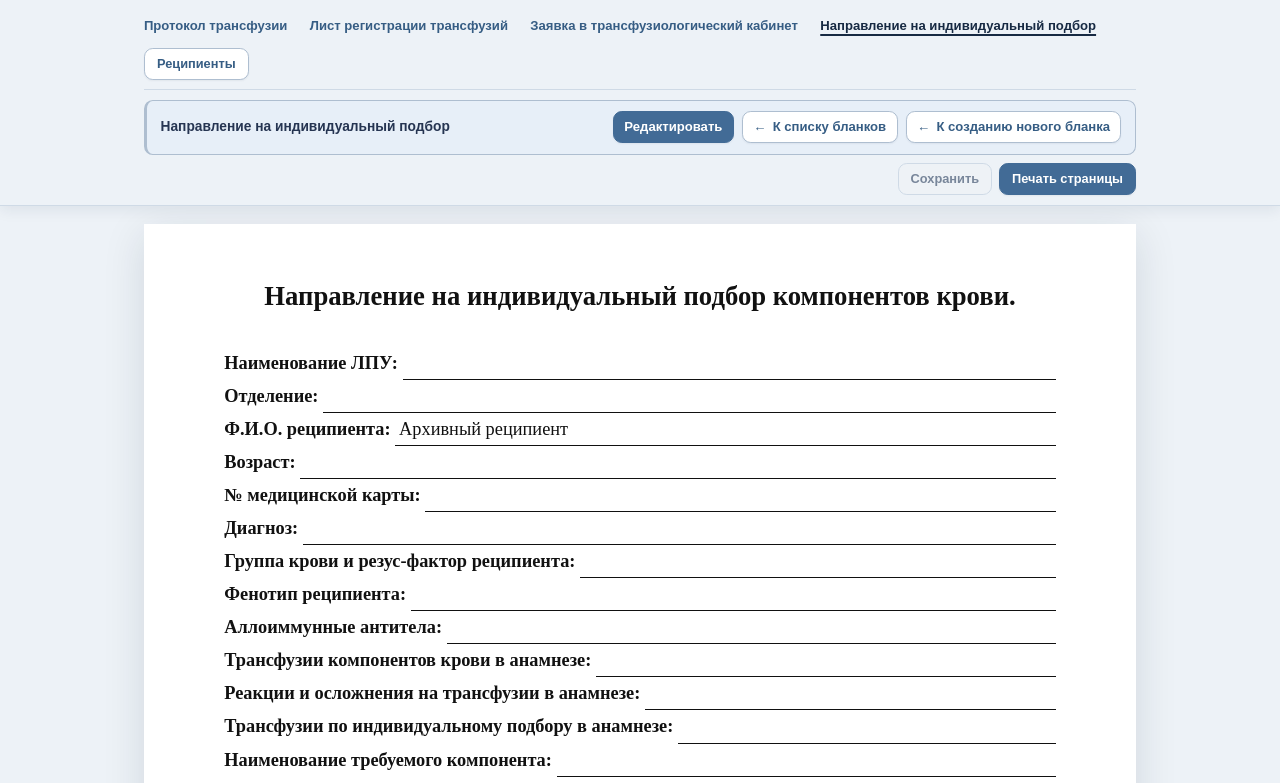
clears only staff when returning from view
Check: the button "Очистить бланк" is not shown
Click the button "← К созданию нового бланка": (1013, 127) 906,111 -> 1121,143
(page scrolled)
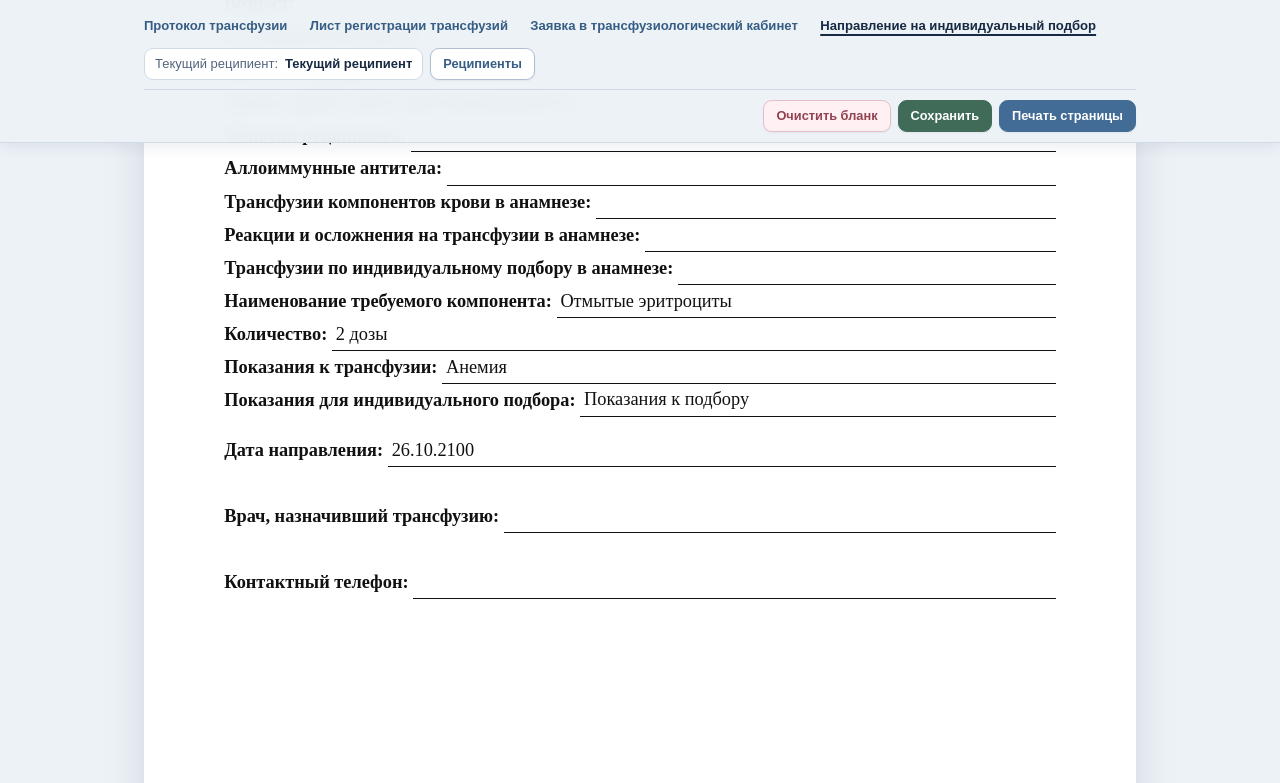
Check: the text "Текущий реципиент" is shown, box 285,56 -> 412,72
Check: the text "Отмытые эритроциты" is shown, box 557,285 -> 1056,318
Check: the text "Показания к подбору" is shown, box 580,384 -> 1056,417
